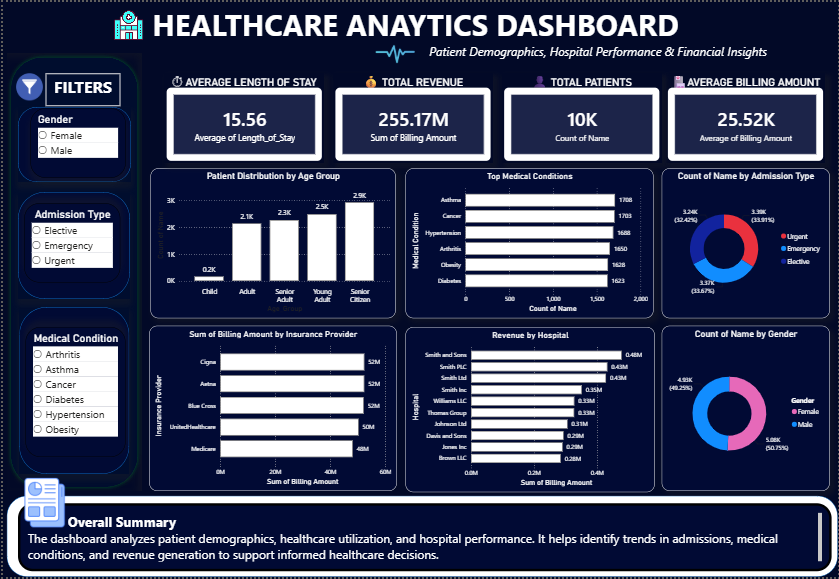

The page's visual inventory and layout, read from the dashboard file:
{"tool":"powerbi","page":{"name":"Page 1","canvas":[1670,1150],"ordinal":0},"visuals":[{"type":"shape","box":[8,102,270,876],"z":0},{"type":"cardVisual","title":"💰 TOTAL REVENUE","fields":{"Data":["Sum(healthcare_cleaned.Billing Amount)"]},"box":[660,142,320,180],"z":1000},{"type":"cardVisual","title":"👤 TOTAL PATIENTS","fields":{"Data":["CountNonNull(healthcare_cleaned.Name)"]},"box":[998,142,320,180],"z":2000},{"type":"cardVisual","title":"🏥AVERAGE BILLING AMOUNT","fields":{"Data":["Avg(healthcare_cleaned.Billing Amount)"]},"box":[1326,142,320,180],"z":3000},{"type":"textbox","box":[84,142,150,68],"z":4000},{"type":"shape","box":[30,210,226,150],"z":5000},{"type":"shape","box":[30,380,224,214],"z":6000},{"type":"shape","box":[32,610,220,334],"z":7000},{"type":"listSlicer","fields":{"Values":["healthcare_cleaned.Gender"]},"box":[54,212,190,139],"z":8000},{"type":"listSlicer","fields":{"Values":["healthcare_cleaned.Admission Type"]},"box":[42,402,192,158],"z":9000},{"type":"listSlicer","fields":{"Values":["healthcare_cleaned.Medical Condition"]},"box":[44,650,200,260],"z":10000},{"type":"textbox","box":[278,0,1096,106],"z":11000},{"type":"clusteredColumnChart","title":"Patient Distribution by Age Group","fields":{"Category":["healthcare_cleaned.Age_Group"],"Y":["CountNonNull(healthcare_cleaned.Name)"]},"box":[294,332,490,300],"z":12000},{"type":"clusteredBarChart","title":"Top Medical Conditions","fields":{"Category":["healthcare_cleaned.Medical Condition"],"Y":["CountNonNull(healthcare_cleaned.Name)"]},"box":[804,332,496,300],"z":13000},{"type":"clusteredBarChart","fields":{"Category":["healthcare_cleaned.Insurance Provider"],"Y":["Sum(healthcare_cleaned.Billing Amount)"]},"box":[292,648,495,330],"z":14000},{"type":"clusteredBarChart","title":"Revenue by Hospital","fields":{"Category":["healthcare_cleaned.Hospital"],"Y":["Sum(healthcare_cleaned.Billing Amount)"]},"box":[804,650,498,330],"z":15000},{"type":"donutChart","fields":{"Category":["healthcare_cleaned.Admission Type"],"Y":["CountNonNull(healthcare_cleaned.Name)"]},"box":[1318,332,336,300],"z":16000},{"type":"donutChart","fields":{"Category":["healthcare_cleaned.Gender"],"Y":["CountNonNull(healthcare_cleaned.Name)"]},"box":[1318,648,336,330],"z":17000},{"type":"cardVisual","title":"⏱ AVERAGE LENGTH OF STAY","fields":{"Data":["Avg(healthcare_cleaned.Length_of_Stay)"]},"box":[322,142,320,180],"z":18000},{"type":"shape","box":[8,988,1662,162],"z":19000},{"type":"textbox","box":[30,1002,1627,136],"z":20000},{"type":"image","box":[202,0,98,92],"z":21000},{"type":"image","box":[30,950,106,102],"z":22000},{"type":"image","box":[16,142,76,54],"z":23000},{"type":"textbox","box":[688,78,938,48],"z":24000},{"type":"image","box":[652,64,264,78],"z":25000}]}

Visuals, with their boxes in screenshot pixels (x1, y1, x2, y2), scaled from the page's 1670x1150 canvas onto the 839x579 screenshot:
shape: pyautogui.locateOnScreen(4, 51, 140, 492)
"💰 TOTAL REVENUE" cardVisual: pyautogui.locateOnScreen(332, 71, 492, 162)
"👤 TOTAL PATIENTS" cardVisual: pyautogui.locateOnScreen(501, 71, 662, 162)
"🏥AVERAGE BILLING AMOUNT" cardVisual: pyautogui.locateOnScreen(666, 71, 827, 162)
textbox: pyautogui.locateOnScreen(42, 71, 118, 106)
shape: pyautogui.locateOnScreen(15, 106, 129, 181)
shape: pyautogui.locateOnScreen(15, 191, 128, 299)
shape: pyautogui.locateOnScreen(16, 307, 127, 475)
listSlicer - healthcare_cleaned.Gender: pyautogui.locateOnScreen(27, 107, 123, 177)
listSlicer - healthcare_cleaned.Admission Type: pyautogui.locateOnScreen(21, 202, 118, 282)
listSlicer - healthcare_cleaned.Medical Condition: pyautogui.locateOnScreen(22, 327, 123, 458)
textbox: pyautogui.locateOnScreen(140, 0, 690, 53)
"Patient Distribution by Age Group" clusteredColumnChart: pyautogui.locateOnScreen(148, 167, 394, 318)
"Top Medical Conditions" clusteredBarChart: pyautogui.locateOnScreen(404, 167, 653, 318)
clusteredBarChart - healthcare_cleaned.Insurance Provider x Sum(healthcare_cleaned.Billing Amount): pyautogui.locateOnScreen(147, 326, 395, 492)
"Revenue by Hospital" clusteredBarChart: pyautogui.locateOnScreen(404, 327, 654, 493)
donutChart - healthcare_cleaned.Admission Type x CountNonNull(healthcare_cleaned.Name): pyautogui.locateOnScreen(662, 167, 831, 318)
donutChart - healthcare_cleaned.Gender x CountNonNull(healthcare_cleaned.Name): pyautogui.locateOnScreen(662, 326, 831, 492)
"⏱ AVERAGE LENGTH OF STAY" cardVisual: pyautogui.locateOnScreen(162, 71, 323, 162)
shape: pyautogui.locateOnScreen(4, 497, 838, 578)
textbox: pyautogui.locateOnScreen(15, 504, 832, 573)
image: pyautogui.locateOnScreen(101, 0, 151, 46)
image: pyautogui.locateOnScreen(15, 478, 68, 530)
image: pyautogui.locateOnScreen(8, 71, 46, 99)
textbox: pyautogui.locateOnScreen(346, 39, 817, 63)
image: pyautogui.locateOnScreen(328, 32, 460, 71)
